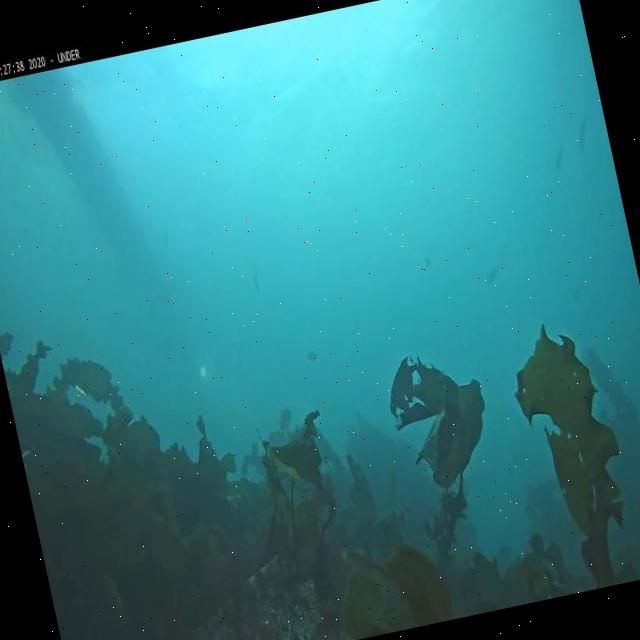fish: (570, 105, 596, 154), (546, 128, 572, 172), (483, 263, 503, 287), (306, 350, 318, 364)
